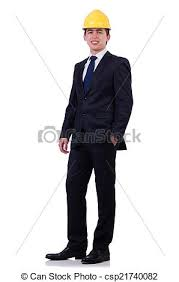Person_wearing_helmet: (79, 5, 117, 40)
